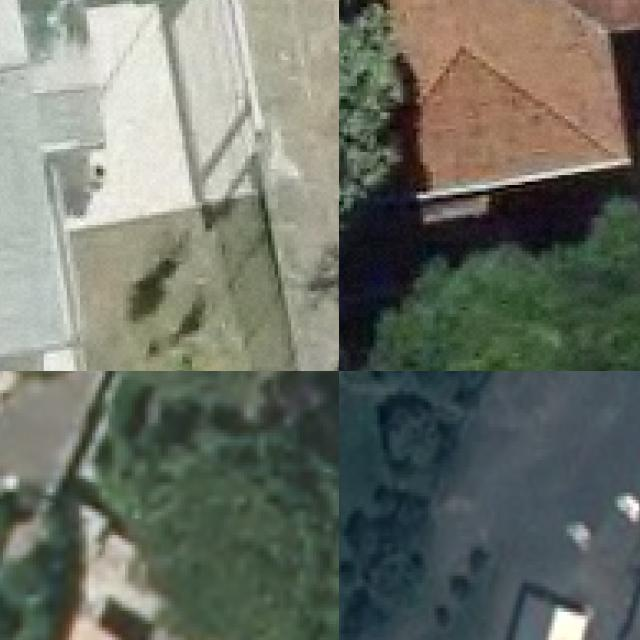trees: (100, 372, 340, 640), (375, 206, 640, 372), (345, 486, 429, 600)
